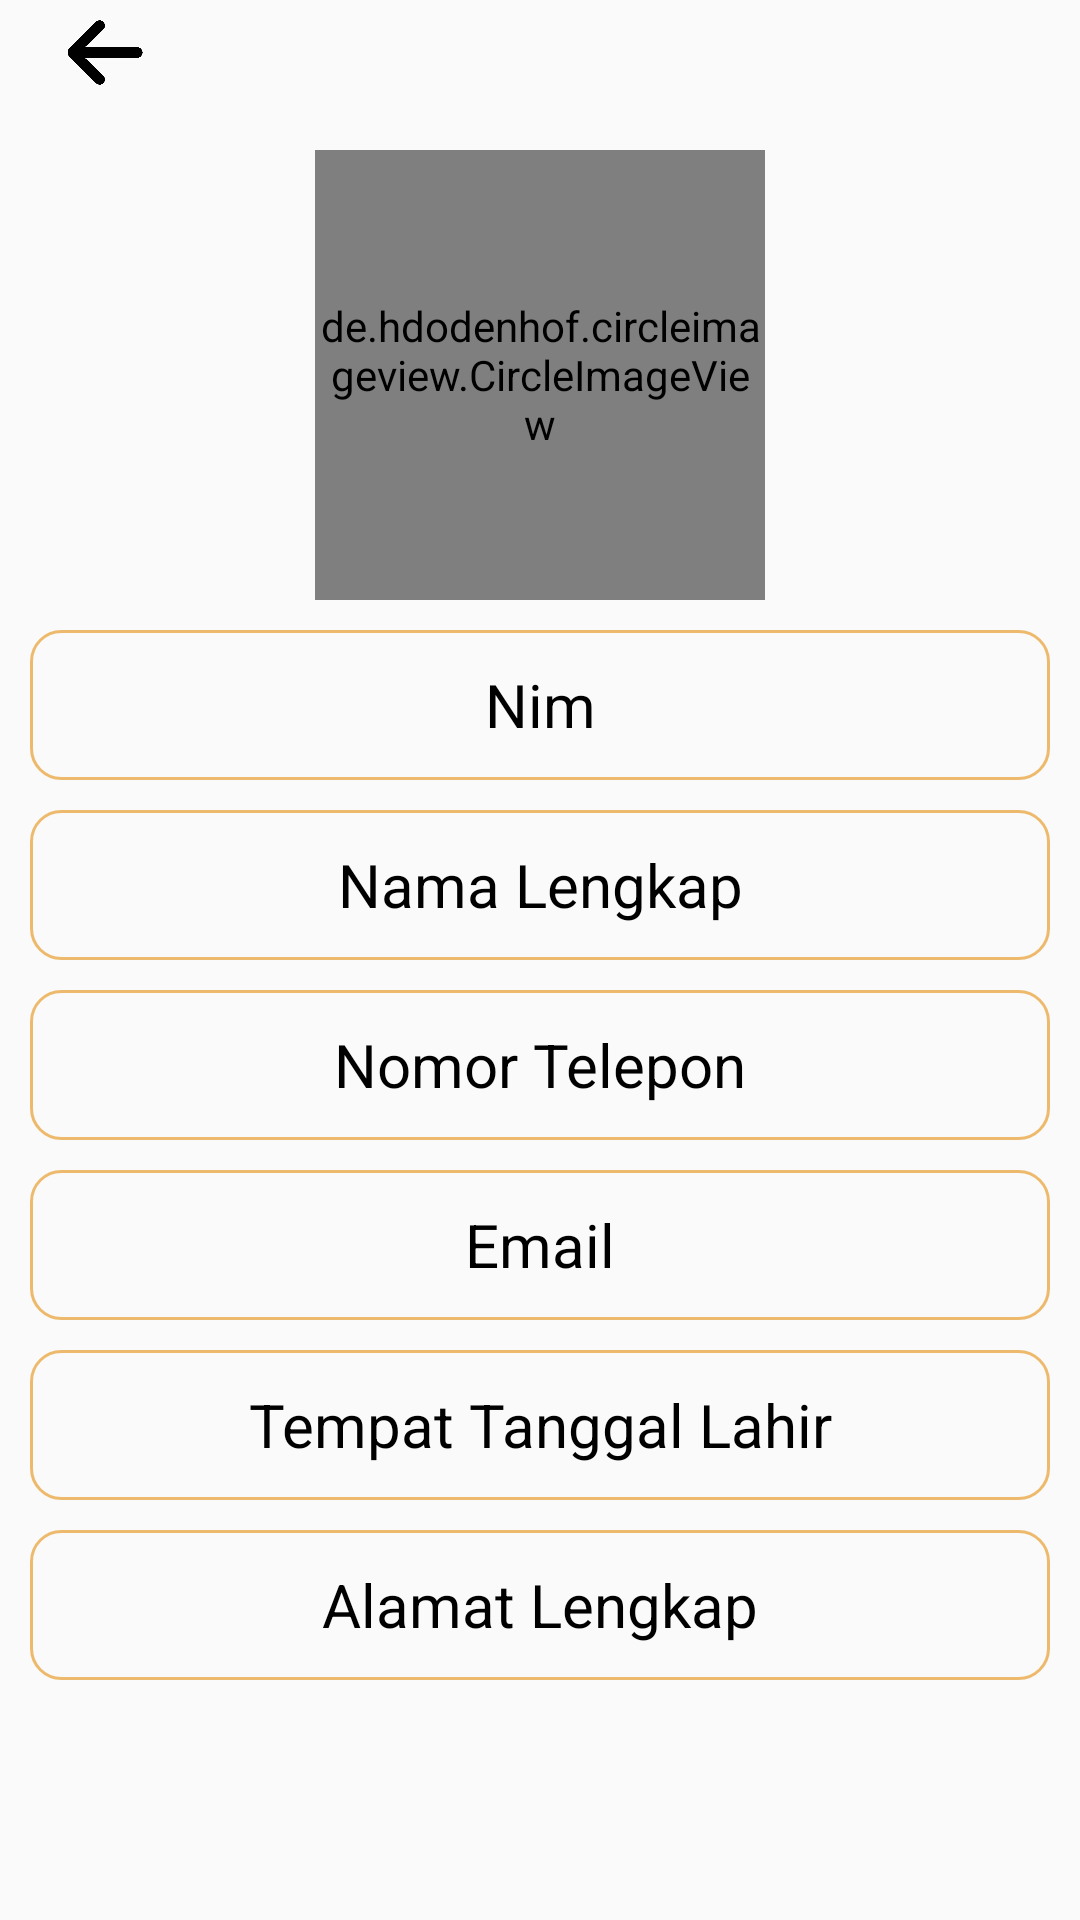

Screen size 1080px x 1920px. Icon name, then its center in pixels as (x,y):
arrow: (105,52)
